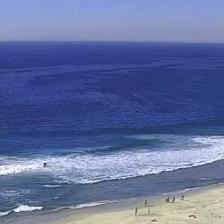surfer: (43, 162, 47, 167)
